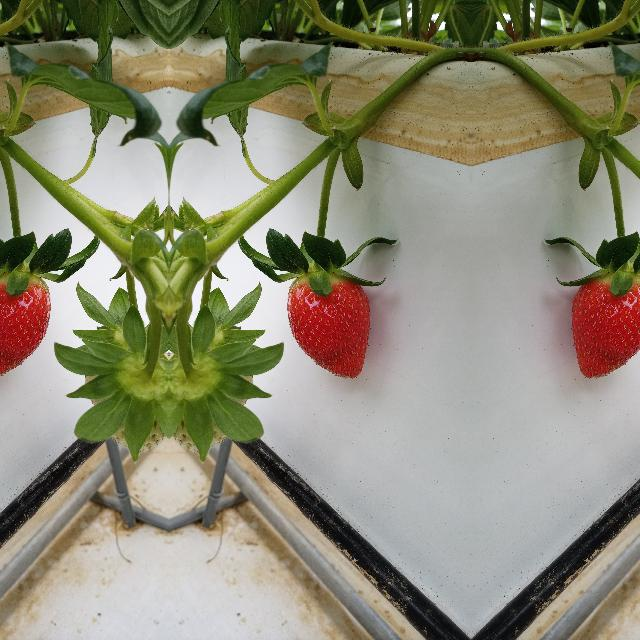Health_100: (286, 272, 370, 378), (570, 271, 640, 378), (0, 271, 50, 378)
